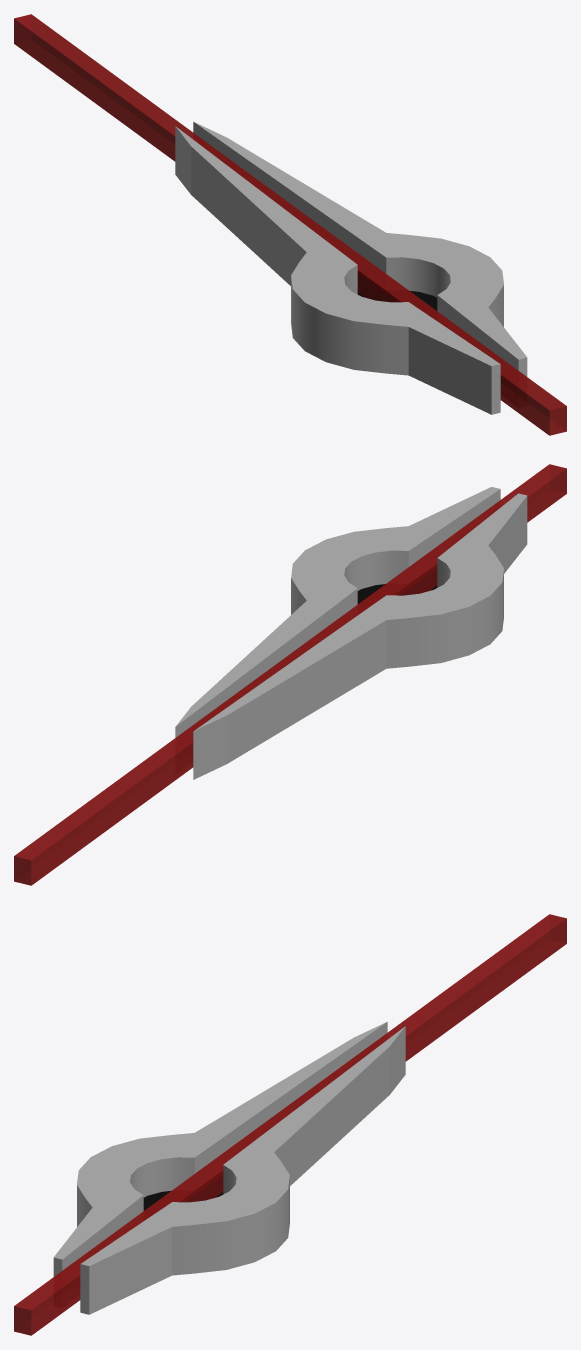
File: needle_2.dae
3 renders of one model, top to bottom at view 1: azimuth 30°, elevation 25°; view 2: azimuth 150°, elevation 25°; view 3: azimuth 330°, elevation 25°, orthographic.
Parts seen in each view (by area): view 1: qt_gauge_needles_2; view 2: qt_gauge_needles_2; view 3: qt_gauge_needles_2.
Boxes of the visible parts, box(x1,y1,x2,y2) form: qt_gauge_needles_2: box(14, 14, 566, 435); qt_gauge_needles_2: box(14, 464, 566, 885); qt_gauge_needles_2: box(14, 914, 566, 1335).
Bounding box in the file's own units: 3.36 × 0.8433 × 16.82.
